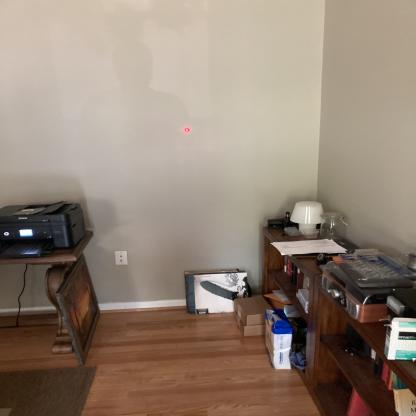target: (184, 125, 196, 137)
